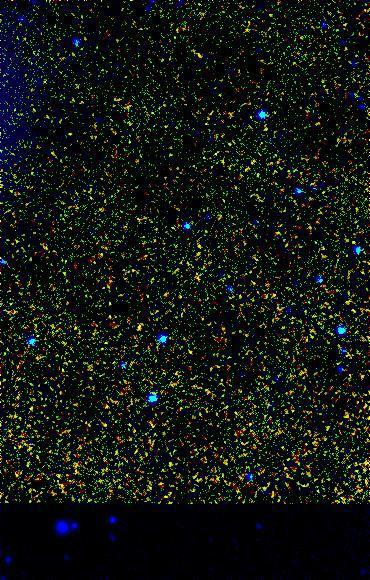star: (126, 312, 156, 342)
